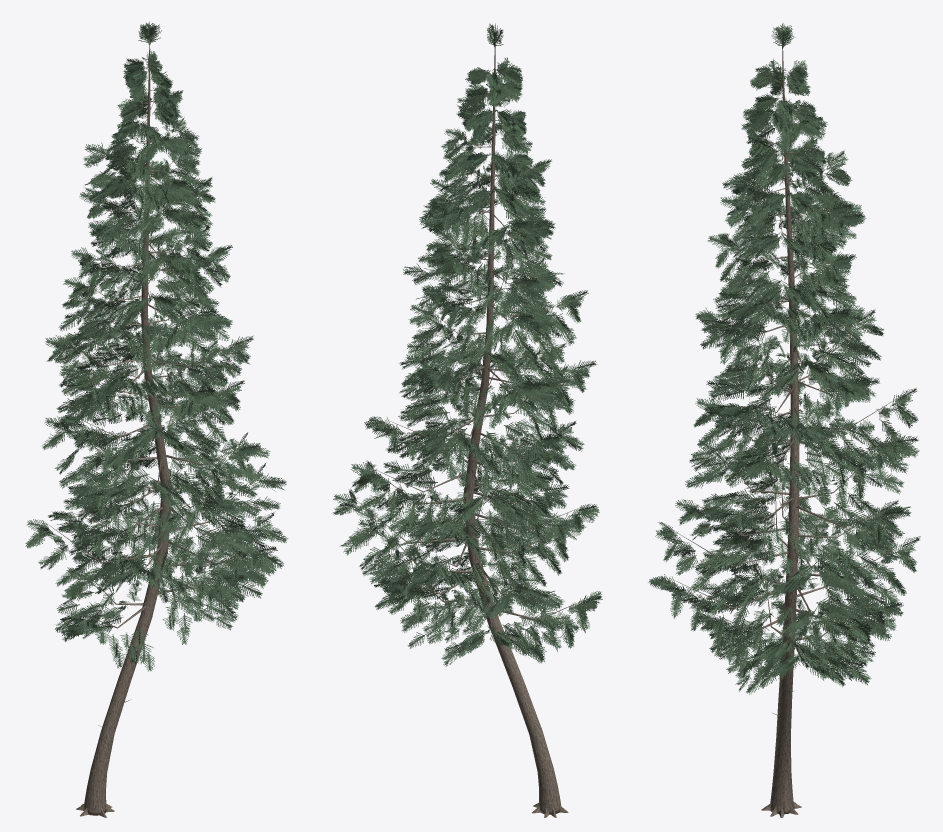
The model's file is SS_Defect_Bent_Young_02_LOD1.fbx.
The picture shows the model from 3 angles, left to right: view 1: azimuth 30°, elevation 25°; view 2: azimuth 150°, elevation 25°; view 3: azimuth 270°, elevation 25°; orthographic projection. The views are drawn at different scales.
Visible parts, largest first — view 1: SS_Defect_Bent_Young_02_LOD1_Foliage, SS_Defect_Bent_Young_02_LOD1_Trunk, SS_Defect_Bent_Young_02_LOD1_Branches; view 2: SS_Defect_Bent_Young_02_LOD1_Foliage, SS_Defect_Bent_Young_02_LOD1_Trunk, SS_Defect_Bent_Young_02_LOD1_Branches; view 3: SS_Defect_Bent_Young_02_LOD1_Foliage, SS_Defect_Bent_Young_02_LOD1_Trunk, SS_Defect_Bent_Young_02_LOD1_Branches.
Boxes of the visible parts, <box> form: SS_Defect_Bent_Young_02_LOD1_Foliage: <box>25,22,288,671</box>; SS_Defect_Bent_Young_02_LOD1_Trunk: <box>76,21,171,817</box>; SS_Defect_Bent_Young_02_LOD1_Branches: <box>45,59,264,727</box>; SS_Defect_Bent_Young_02_LOD1_Foliage: <box>333,23,602,666</box>; SS_Defect_Bent_Young_02_LOD1_Trunk: <box>463,23,568,817</box>; SS_Defect_Bent_Young_02_LOD1_Branches: <box>351,66,583,750</box>; SS_Defect_Bent_Young_02_LOD1_Foliage: <box>648,23,920,694</box>; SS_Defect_Bent_Young_02_LOD1_Trunk: <box>761,23,801,817</box>; SS_Defect_Bent_Young_02_LOD1_Branches: <box>672,67,903,715</box>.
Size of the model in its own units: 378 by 1100 by 354.
